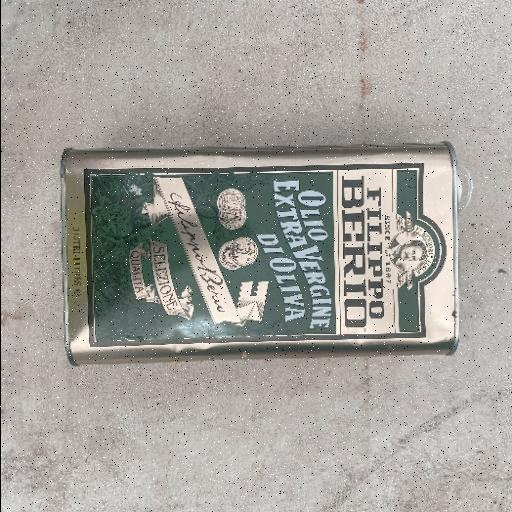Metal: (60, 140, 464, 366)
